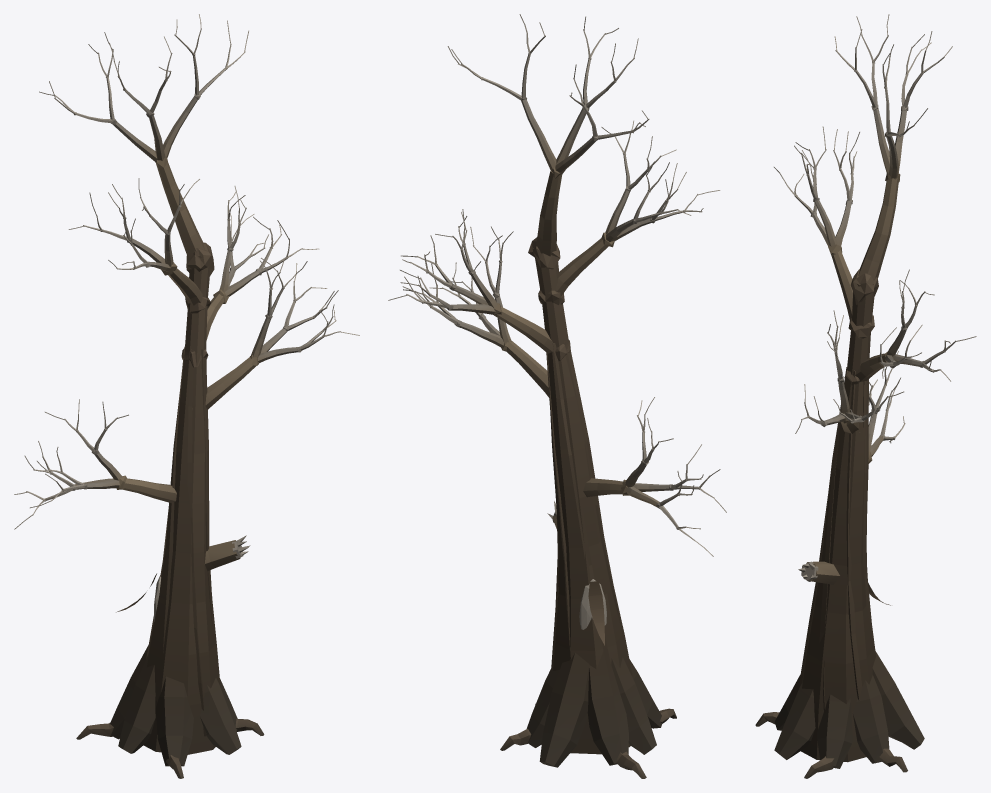
File: dead_tree.glb
The picture shows the model from 3 angles, left to right: view 1: azimuth 30°, elevation 25°; view 2: azimuth 150°, elevation 25°; view 3: azimuth 270°, elevation 25°; orthographic projection. The views are drawn at different scales.
Parts seen in each view (by area): view 1: dead_tree; view 2: dead_tree; view 3: dead_tree.
Part boxes in pixels (left/top/right/bottom): dead_tree: left=14, top=14, right=359, bottom=778; dead_tree: left=388, top=14, right=726, bottom=778; dead_tree: left=755, top=14, right=976, bottom=778.
Bounding box in the file's own units: 2.2 × 4.81 × 1.35.
